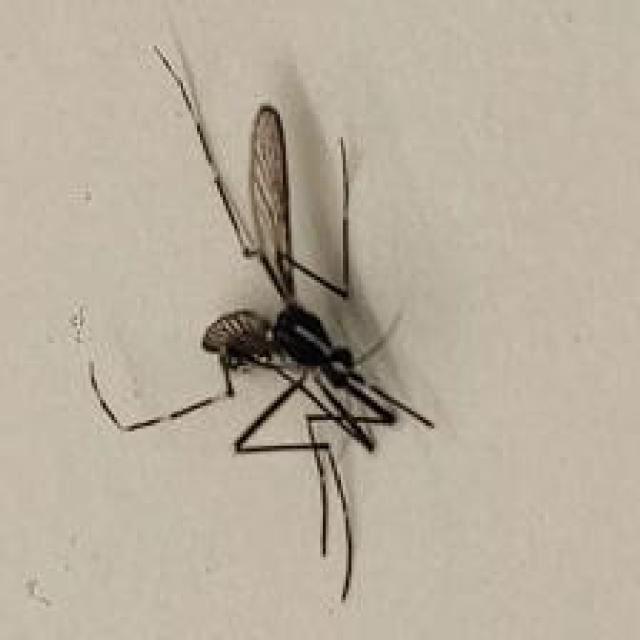Aedes albopictus: (73, 30, 436, 601)
